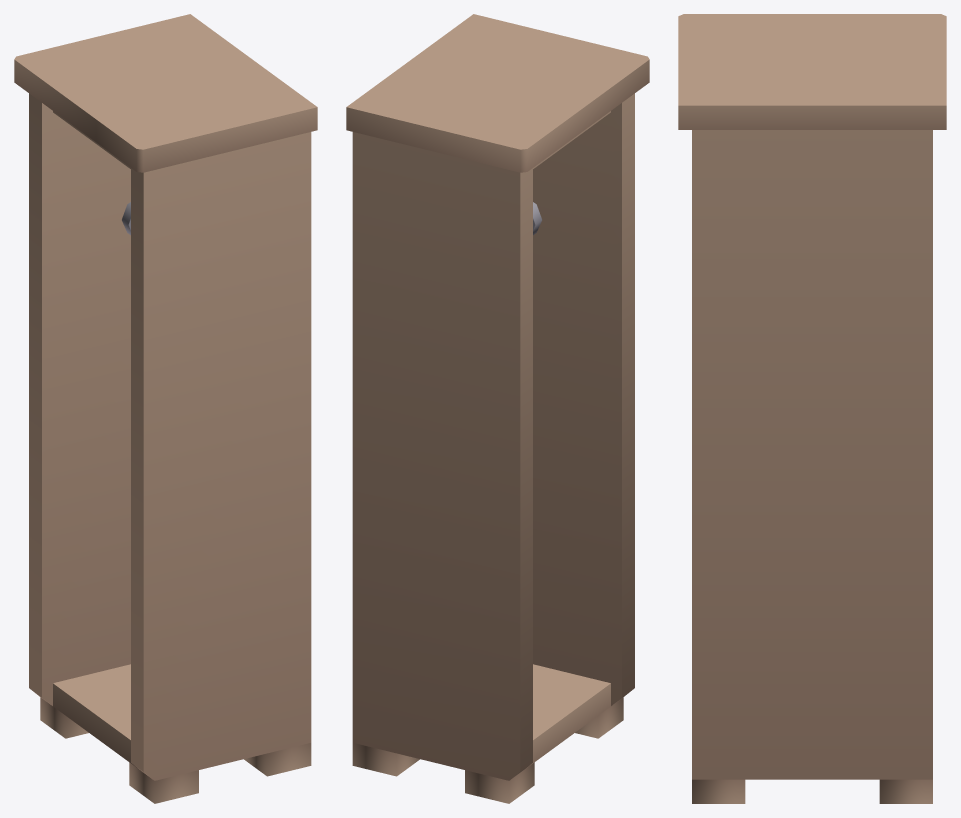
File: cabinet-clothing-classic-single.glb
3 renders of one model, left to right at view 1: azimuth 30°, elevation 25°; view 2: azimuth 150°, elevation 25°; view 3: azimuth 270°, elevation 25°, orthographic. The views are drawn at different scales.
Visible parts, largest first — view 1: cabinet-clothing-classic-single; view 2: cabinet-clothing-classic-single; view 3: cabinet-clothing-classic-single.
Boxes of the visible parts, box(x1,y1,x2,y2) form: cabinet-clothing-classic-single: box(14, 14, 317, 803); cabinet-clothing-classic-single: box(346, 14, 649, 803); cabinet-clothing-classic-single: box(678, 14, 946, 803).
Size of the model in its own units: 0.405 by 1.44 by 0.5.
